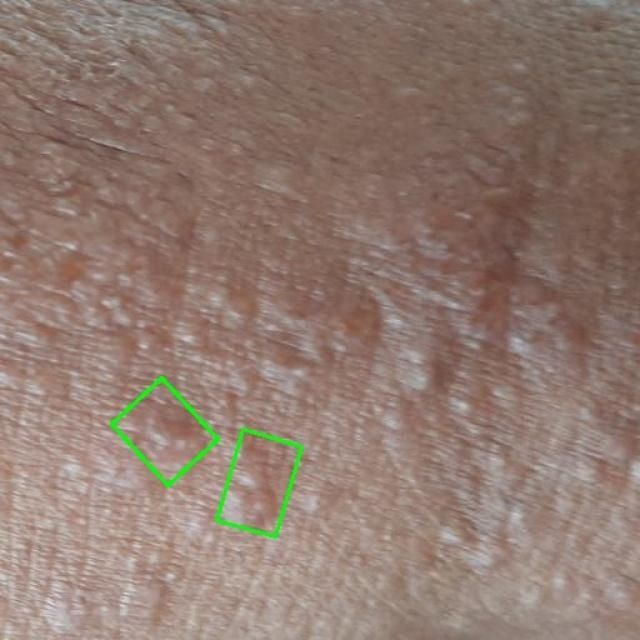Seborrheic Dermatitis: (111, 378, 219, 486), (217, 430, 302, 537)
